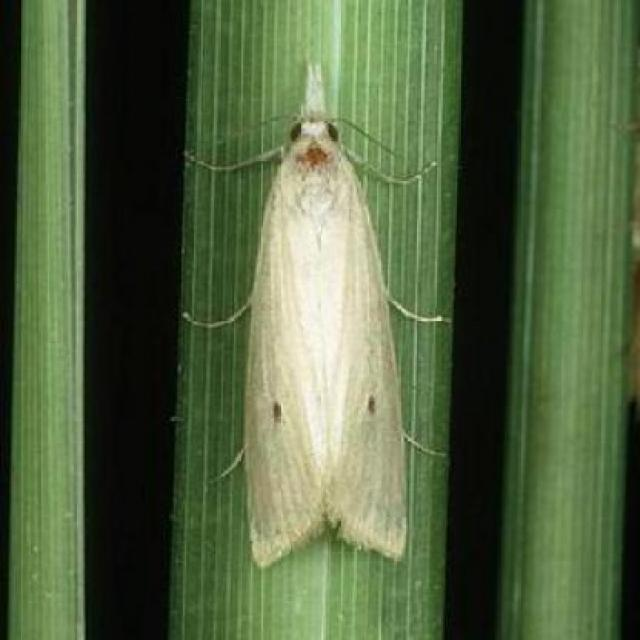stem-borer: (209, 58, 420, 574)
